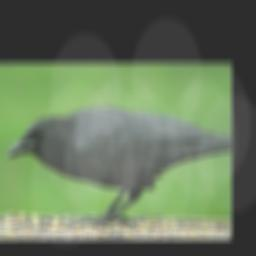Crow: (6, 107, 233, 230)
